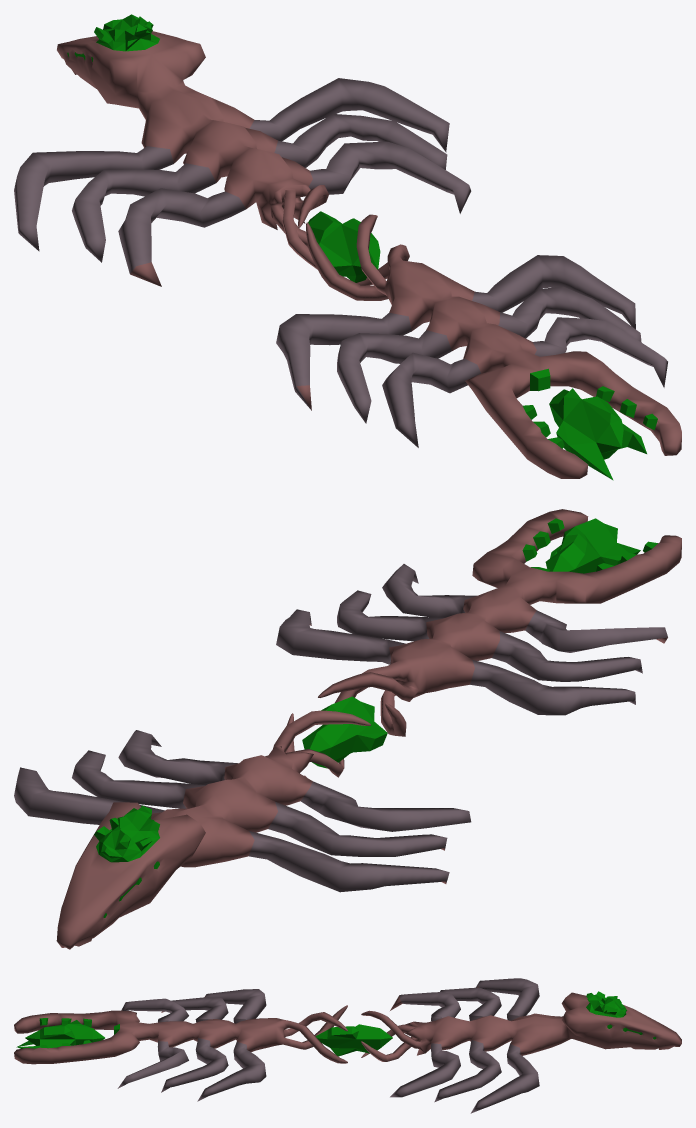
Rendered from Shield2.fbx.
3 views of the same model, one above another, from view 1: azimuth 30°, elevation 25°; view 2: azimuth 150°, elevation 25°; view 3: azimuth 270°, elevation 25° (orthographic). The views are drawn at different scales.
Visible parts, largest first — view 1: ShipUpper.001, ShipLower, Cube.001, Cube; view 2: ShipUpper.001, ShipLower, Cube.001, Cube; view 3: ShipUpper.001, ShipLower, Cube, Cube.001.
Boxes of the visible parts, box(x1,y1,x2,y2) form: ShipUpper.001: box(14, 14, 471, 286); ShipLower: box(276, 214, 681, 478); Cube.001: box(549, 388, 646, 480); Cube: box(308, 211, 380, 282); ShipUpper.001: box(14, 710, 471, 949); ShipLower: box(276, 509, 681, 768); Cube.001: box(545, 518, 640, 573); Cube: box(302, 696, 387, 768); ShipUpper.001: box(361, 978, 681, 1113); ShipLower: box(14, 989, 347, 1101); Cube: box(315, 1024, 392, 1056); Cube.001: box(16, 1020, 104, 1048).
Bounding box in the file's own units: 8.94 × 2.31 × 20.37.
